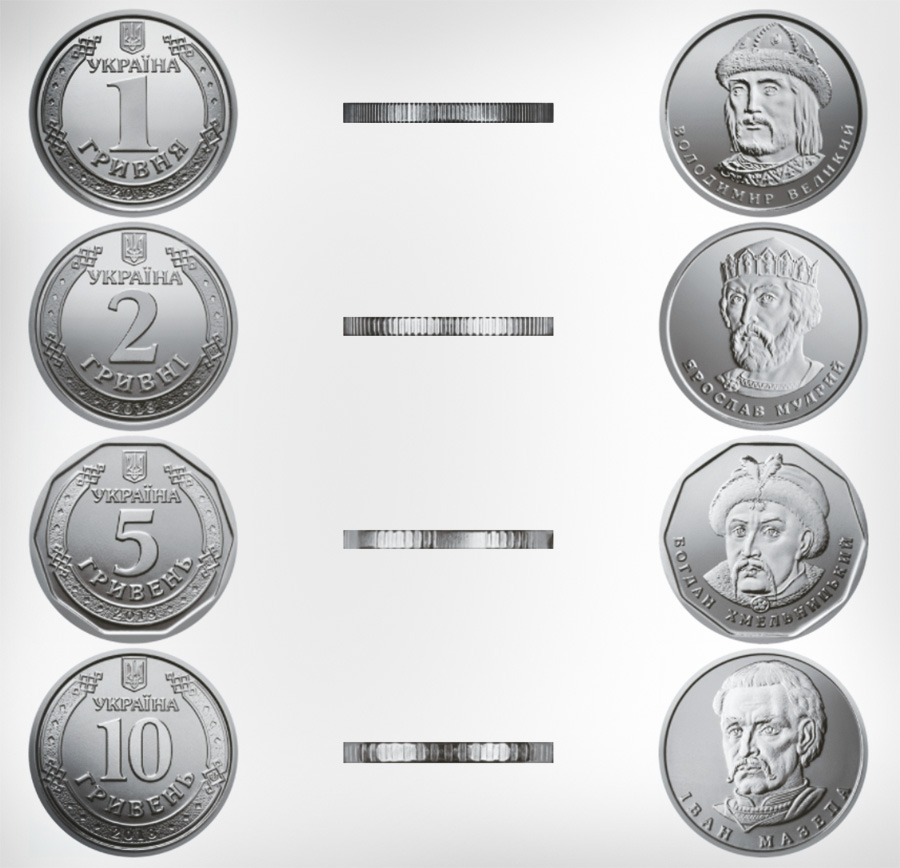coin_10_bn: (658, 652, 863, 860), (34, 649, 239, 856), (341, 742, 554, 762)
coin_1_bn: (28, 11, 233, 218), (660, 7, 865, 214), (344, 102, 555, 123)
coin_2_bn: (30, 221, 235, 429), (658, 220, 863, 428), (341, 316, 553, 337)
coin_5_bn: (32, 440, 237, 648), (662, 443, 867, 650), (342, 529, 558, 549)
